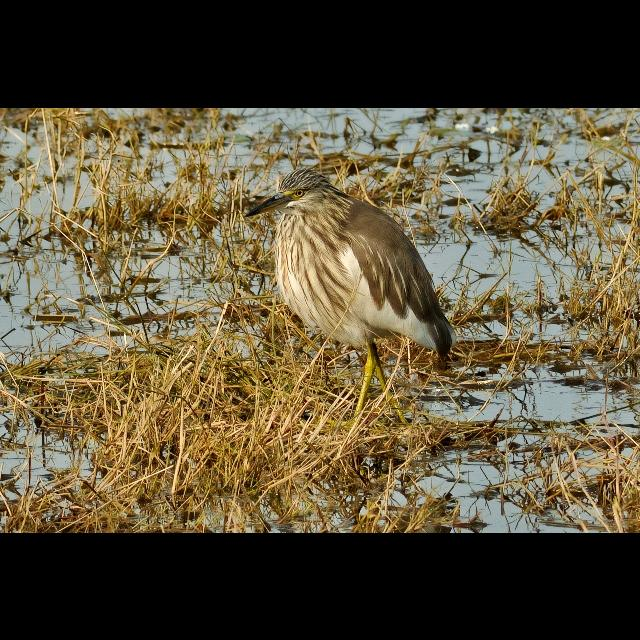heron: (244, 163, 466, 429)
